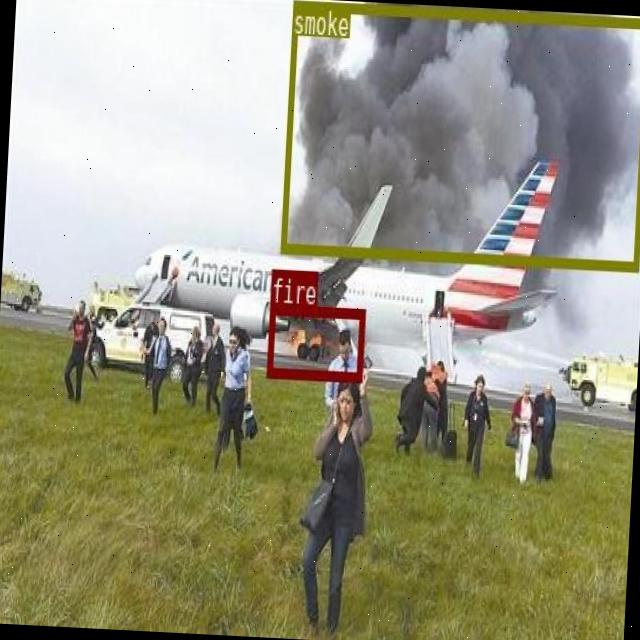fire: (266, 304, 365, 381)
smoke: (279, 0, 640, 268)
